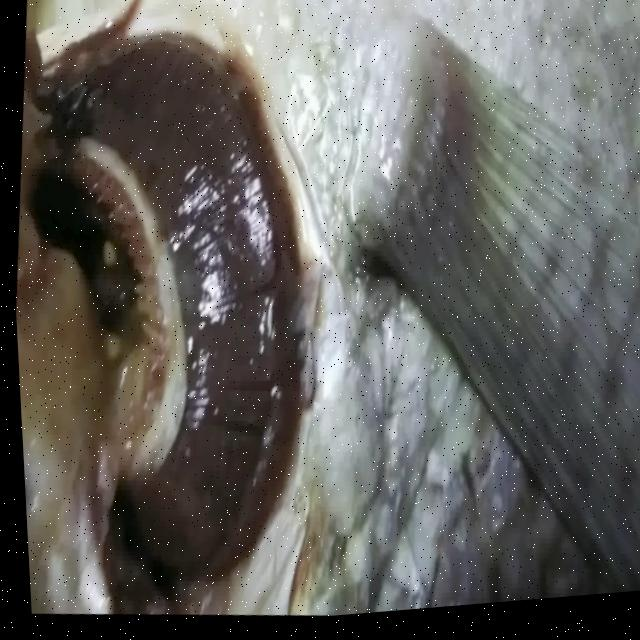Non-Fresh: (0, 0, 376, 639)
